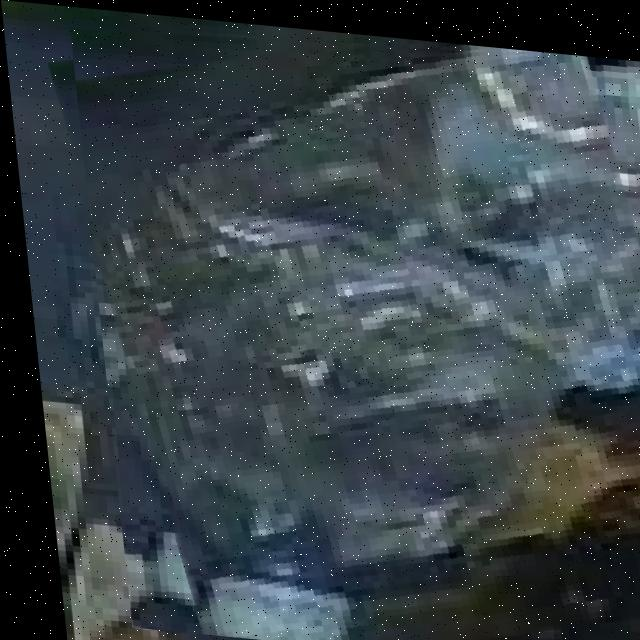plasticbottle: (67, 5, 640, 640)
